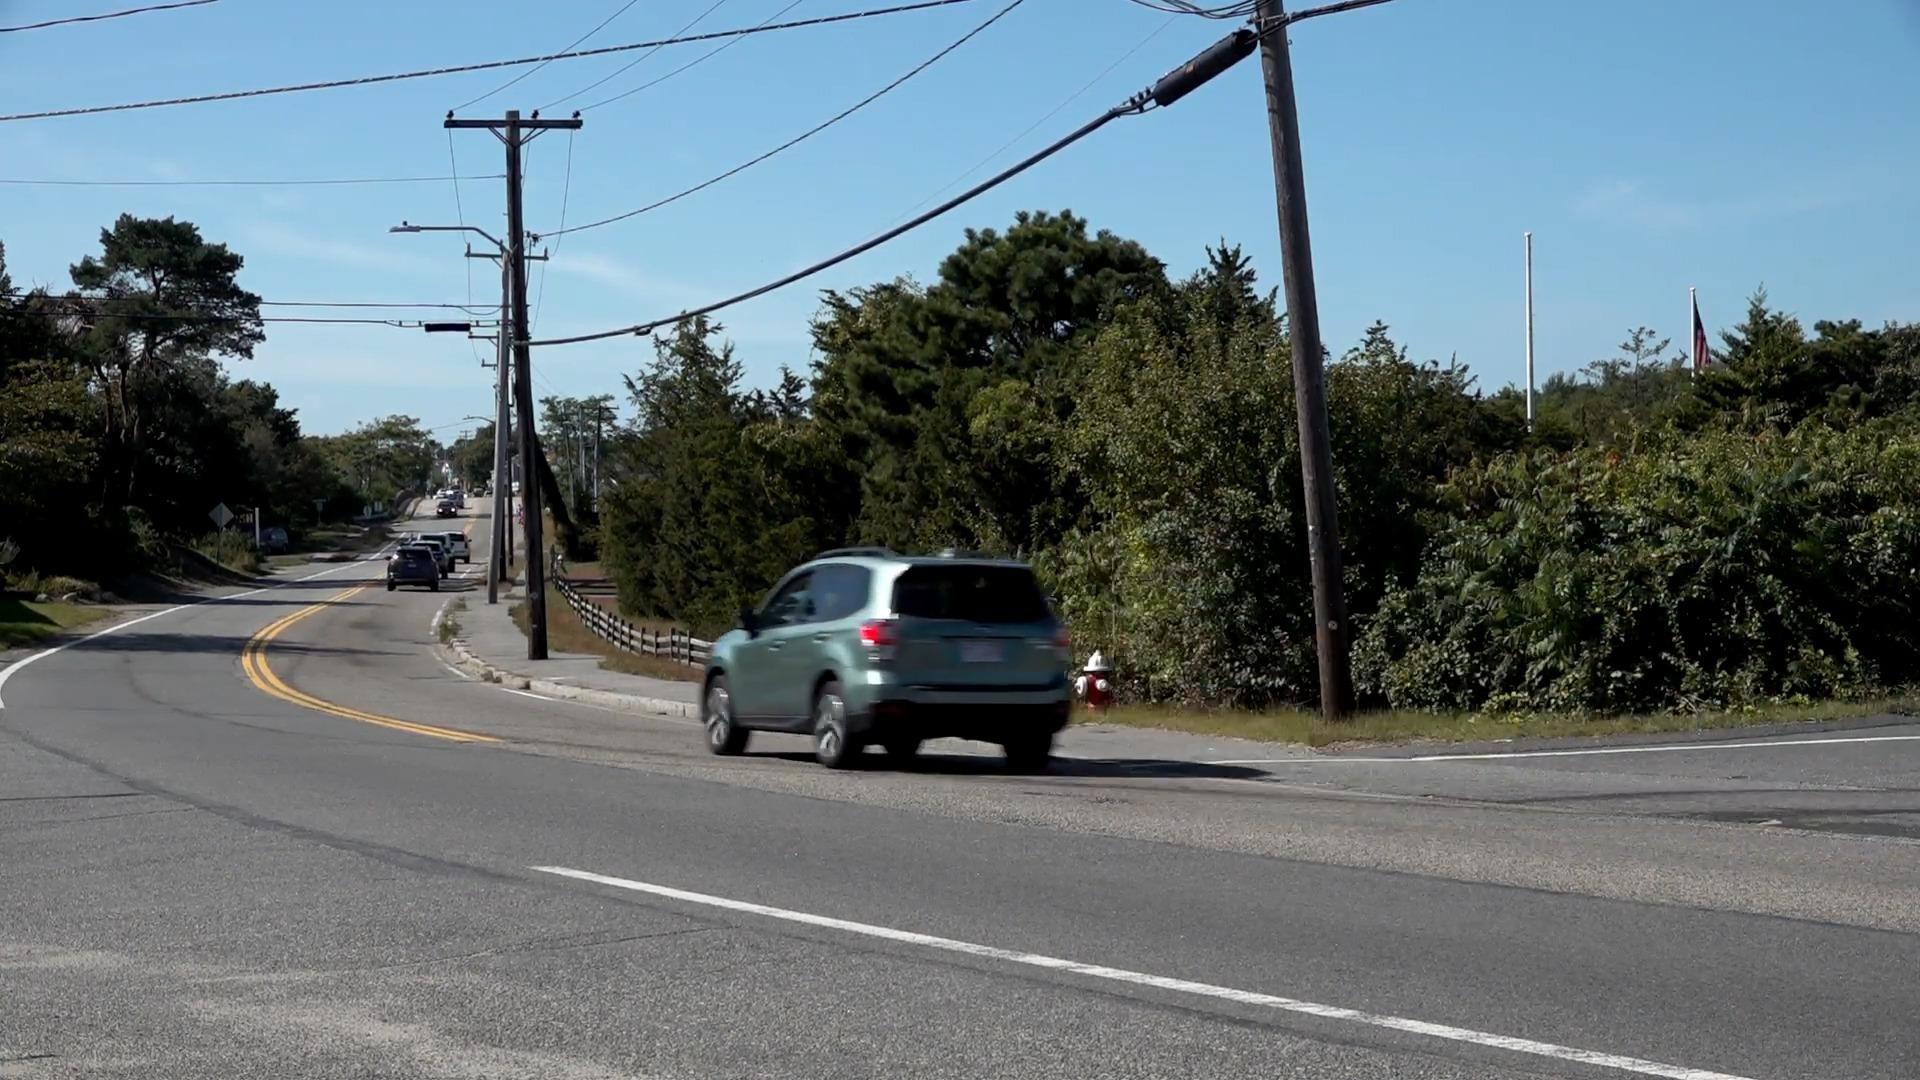suv: (700, 543, 1072, 774)
